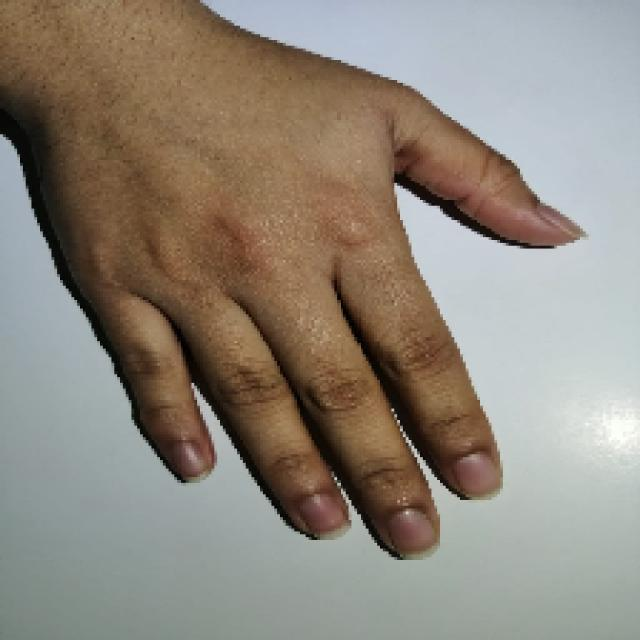Nail: (386, 509, 440, 561), (297, 494, 350, 540), (455, 451, 505, 499), (169, 439, 211, 483), (538, 204, 589, 240)
